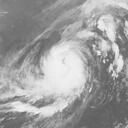cyclone: (21, 40, 91, 118)
